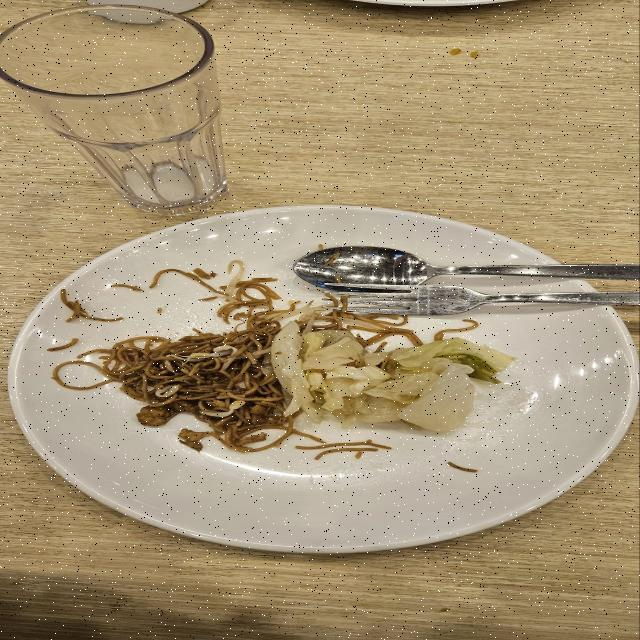Green veg: (270, 314, 513, 432)
